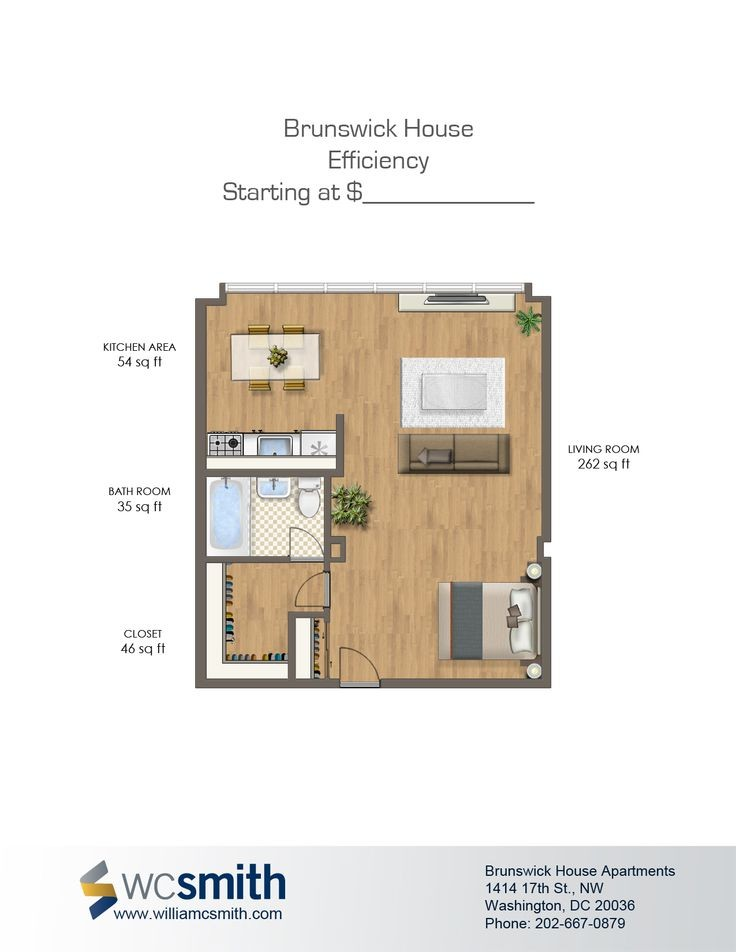door: (280, 561, 337, 623), (331, 631, 380, 693), (277, 514, 329, 564)
room: (204, 298, 549, 475), (335, 477, 544, 685), (194, 557, 337, 679), (198, 473, 337, 561)
wall: (528, 277, 567, 692), (180, 295, 218, 695), (381, 659, 568, 701), (191, 663, 342, 699), (196, 457, 355, 488), (199, 541, 291, 581), (317, 475, 350, 565), (329, 408, 354, 481), (282, 608, 304, 689)
